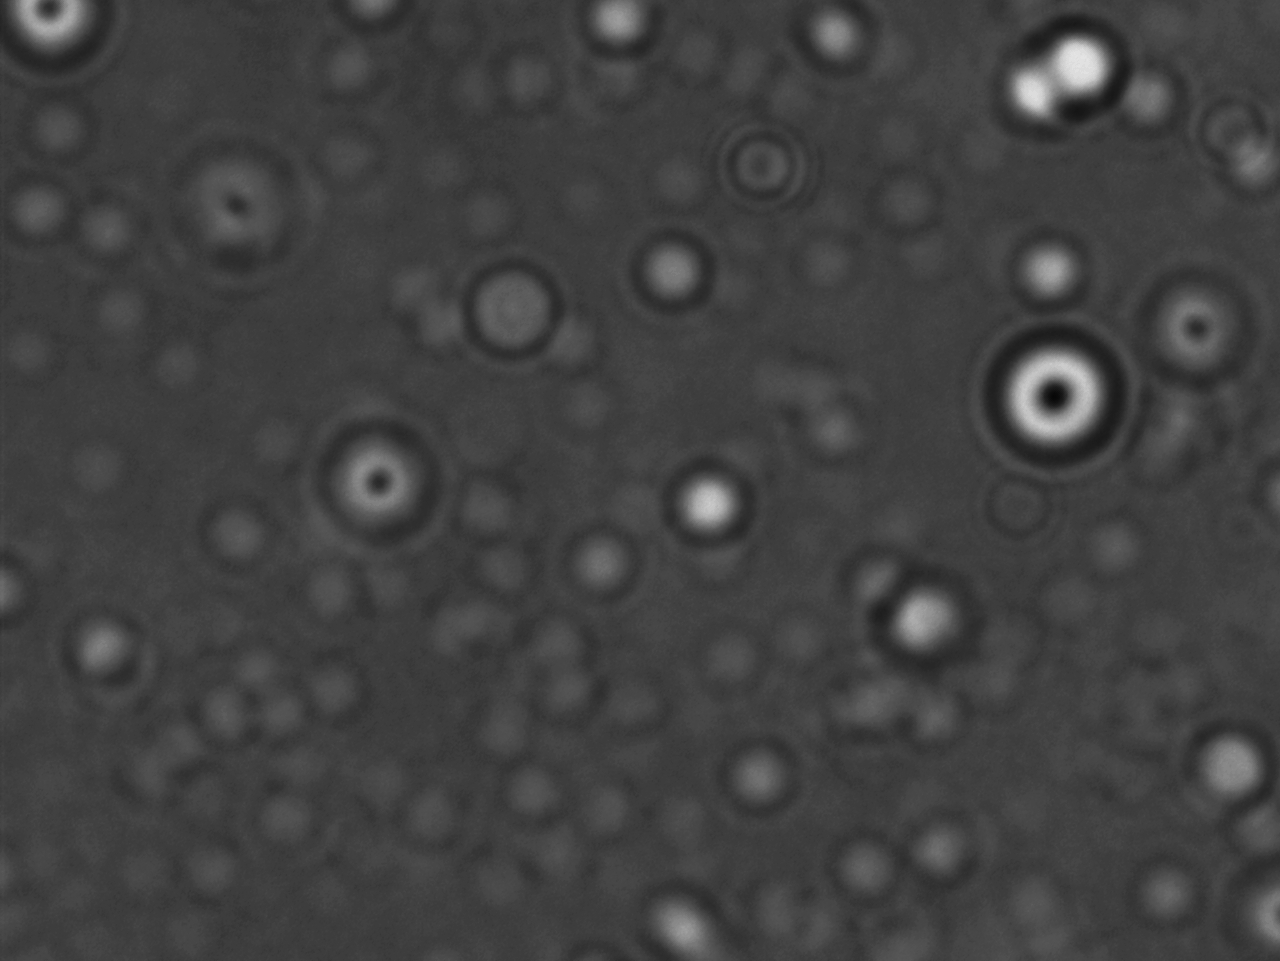depth:24: (981, 319, 1131, 469)
